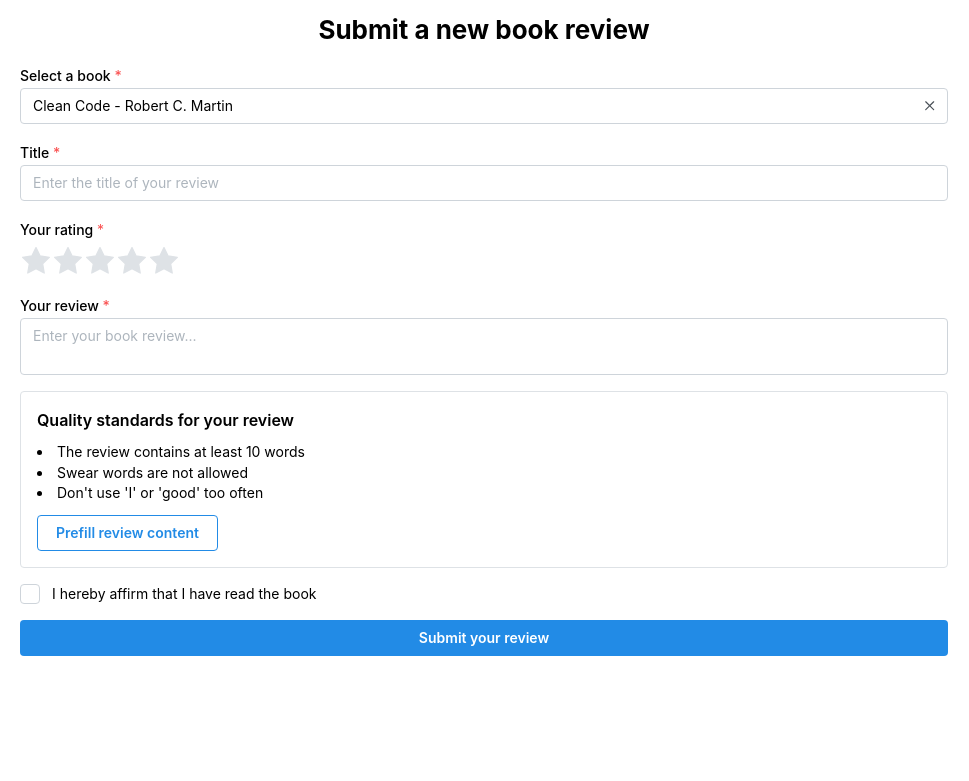
Test: SubmitReviewContainer — submission › shows quality standards error message on 418 response
Type "A must-read for every developer" into the field labelled "Title *" at (484, 183), box [20,165,948,201]
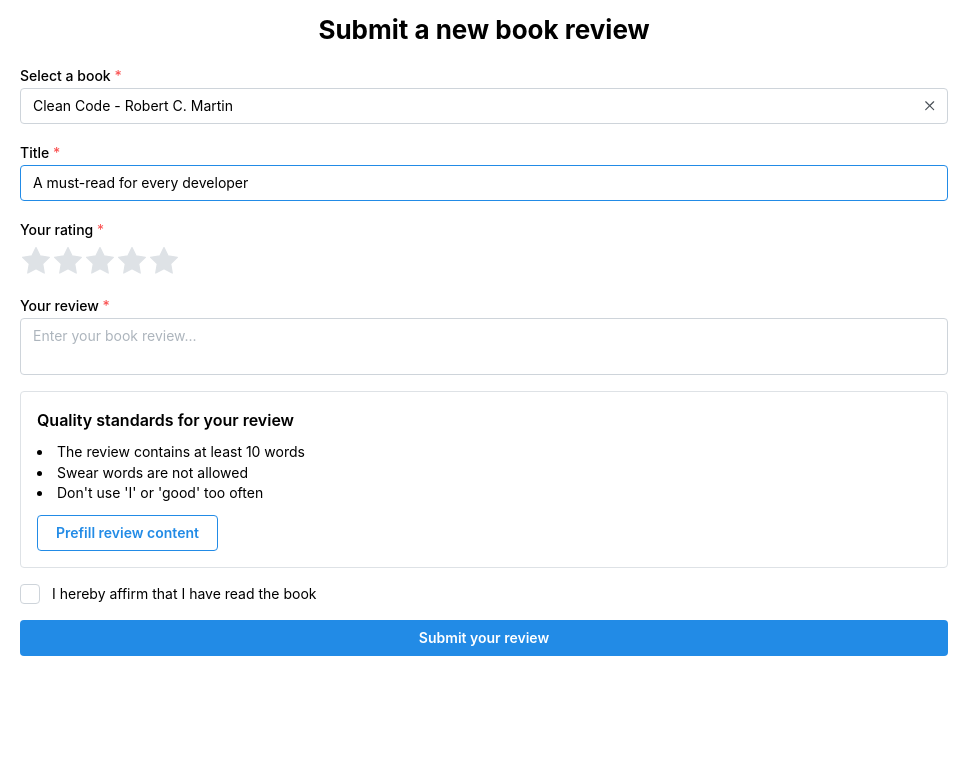
Click the 6th radio button at (164, 262), box [148,246,180,278]
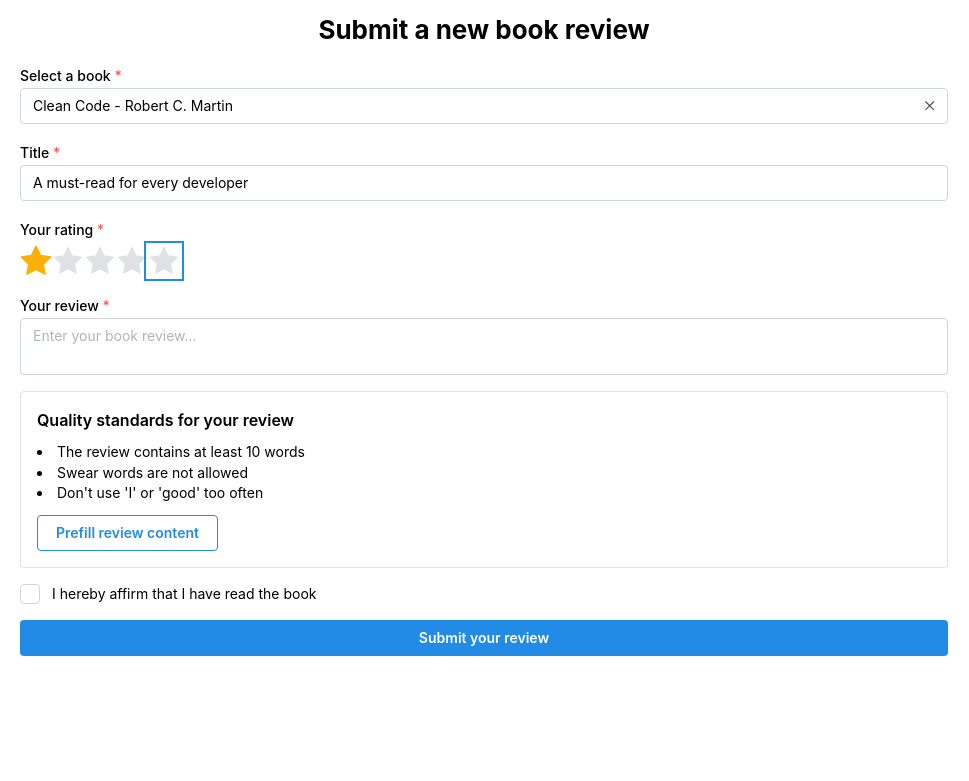
Type "This is an excellent book that every software engineer should read." into the text box labelled "Your review *" at (484, 346), box [20,318,948,375]
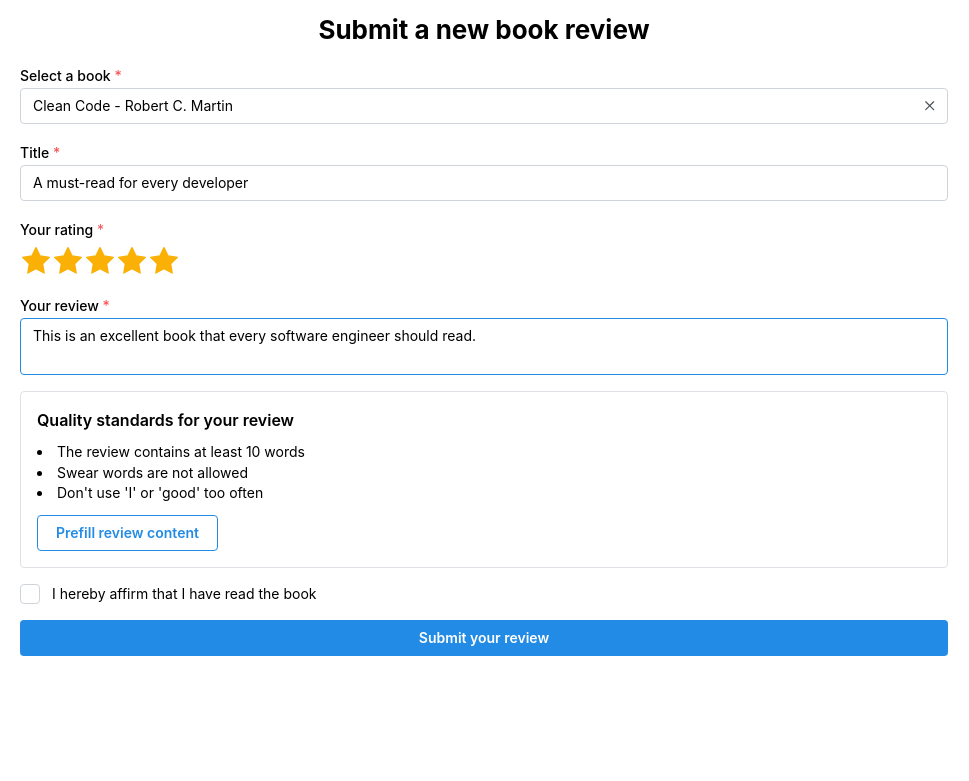
Click the checkbox at (30, 594), box [20,584,40,604]
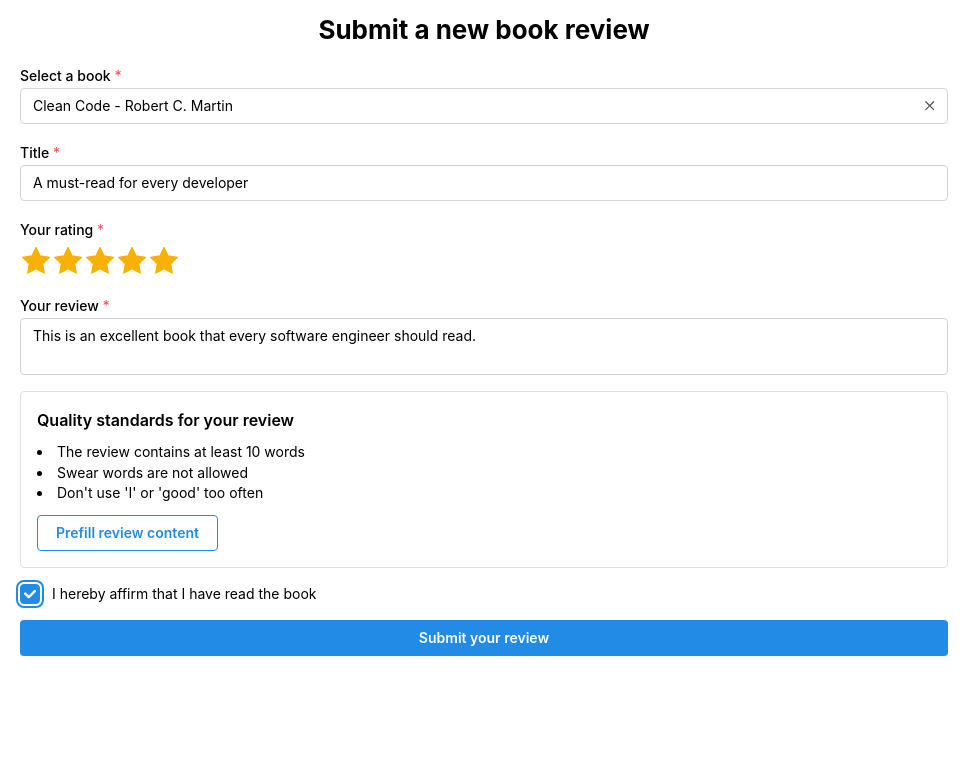
Click the button "Submit your review" at (484, 638), box [20,620,948,656]
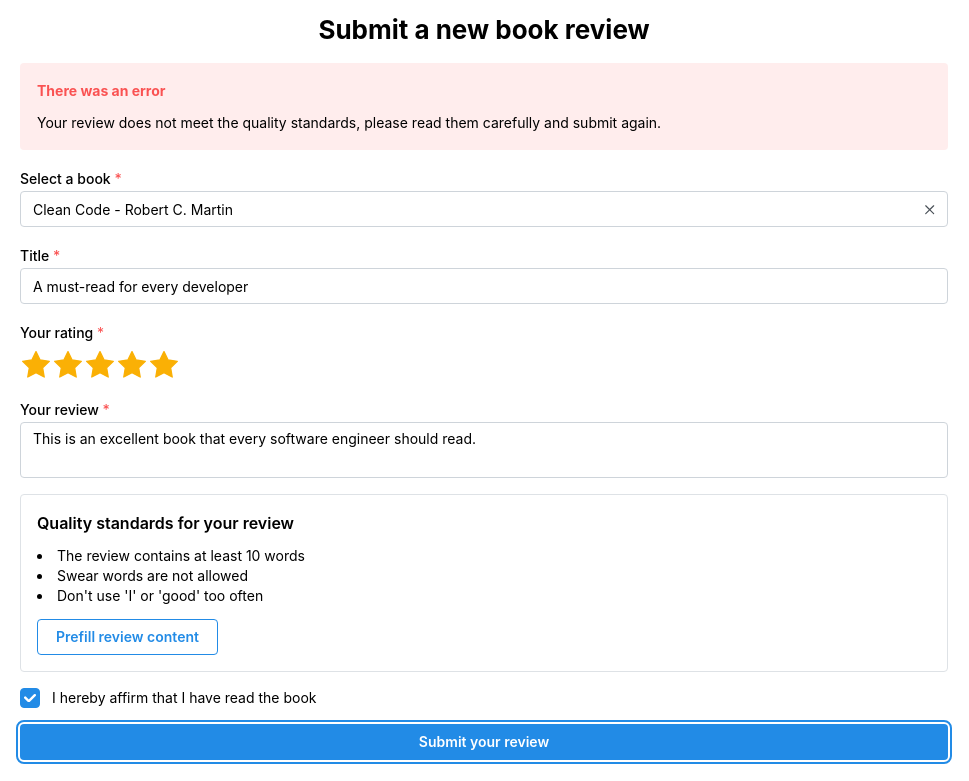
expect the text "There was an error" is shown: met, box [37,80,166,102]
expect the text "does not meet the quality standards" is shown: met, box [37,114,661,131]
